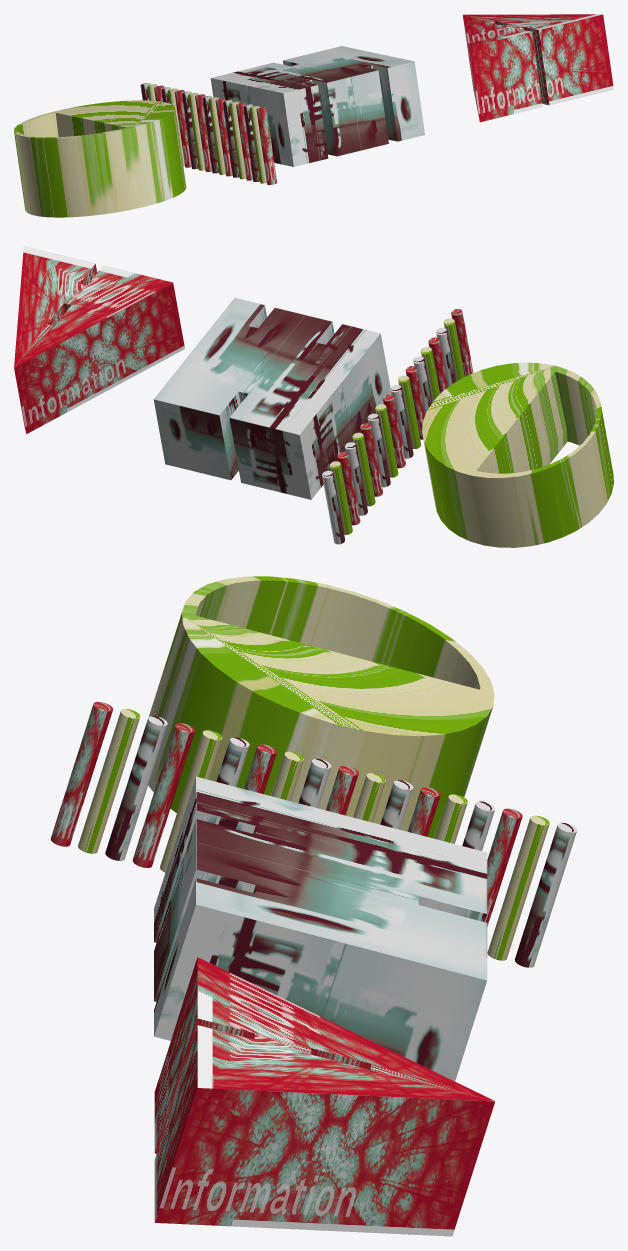
The model's file is dma.obj.
3 renders of one model, top to bottom at view 1: azimuth 30°, elevation 25°; view 2: azimuth 150°, elevation 25°; view 3: azimuth 270°, elevation 25°, orthographic. The views are drawn at different scales.
Parts seen in each view (by area): view 1: group1 polySurface8, polySurface3 group1, group1 polySurface5, group1 pCylinder2 pCylinder3 pCylinder4 pCylinder5 pCylinder6 pC; view 2: polySurface3 group1, group1 polySurface8, group1 polySurface5, group1 pCylinder2 pCylinder3 pCylinder4 pCylinder5 pCylinder6 pC; view 3: polySurface3 group1, group1 polySurface5, group1 polySurface8, group1 pCylinder2 pCylinder3 pCylinder4 pCylinder5 pCylinder6 pC.
Boxes of the visible parts, left/top/right/bottom form: group1 polySurface8: left=14, top=100, right=186, bottom=217; polySurface3 group1: left=210, top=46, right=424, bottom=166; group1 polySurface5: left=463, top=14, right=613, bottom=122; group1 pCylinder2 pCylinder3 pCylinder4 pCylinder5 pCylinder6 pC: left=140, top=83, right=277, bottom=184; polySurface3 group1: left=153, top=298, right=391, bottom=499; group1 polySurface8: left=422, top=362, right=613, bottom=547; group1 polySurface5: left=14, top=246, right=184, bottom=434; group1 pCylinder2 pCylinder3 pCylinder4 pCylinder5 pCylinder6 pC: left=322, top=309, right=473, bottom=544; polySurface3 group1: left=154, top=776, right=487, bottom=1081; group1 polySurface5: left=154, top=957, right=495, bottom=1236; group1 polySurface8: left=148, top=576, right=494, bottom=838; group1 pCylinder2 pCylinder3 pCylinder4 pCylinder5 pCylinder6 pC: left=50, top=701, right=577, bottom=967.
Bounding box in the file's own units: 24.32 × 5.58 × 10.2.
3 materials, 3 textured.
